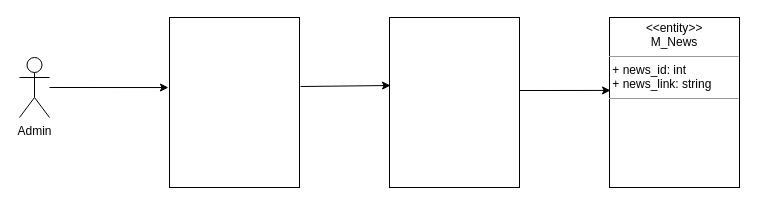
Some shapes in this 757 by 205 pixel diagram are drawn without their labels. Here are the shapes that lost their labels. From the top down, the centre of each, then its label:
At [234,102]: "< <boundary >> V_News + news_id + deleteNews()".
At [454,102]: "< <control >> C_News + deleteNews()".
